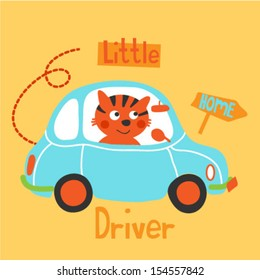car: (20, 80, 239, 214)
